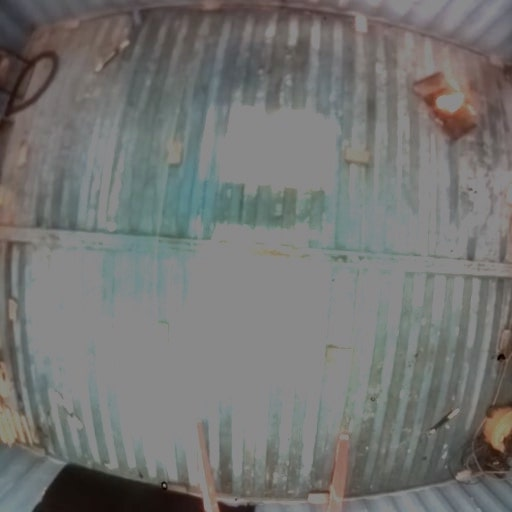Fire: (436, 90, 466, 113)
